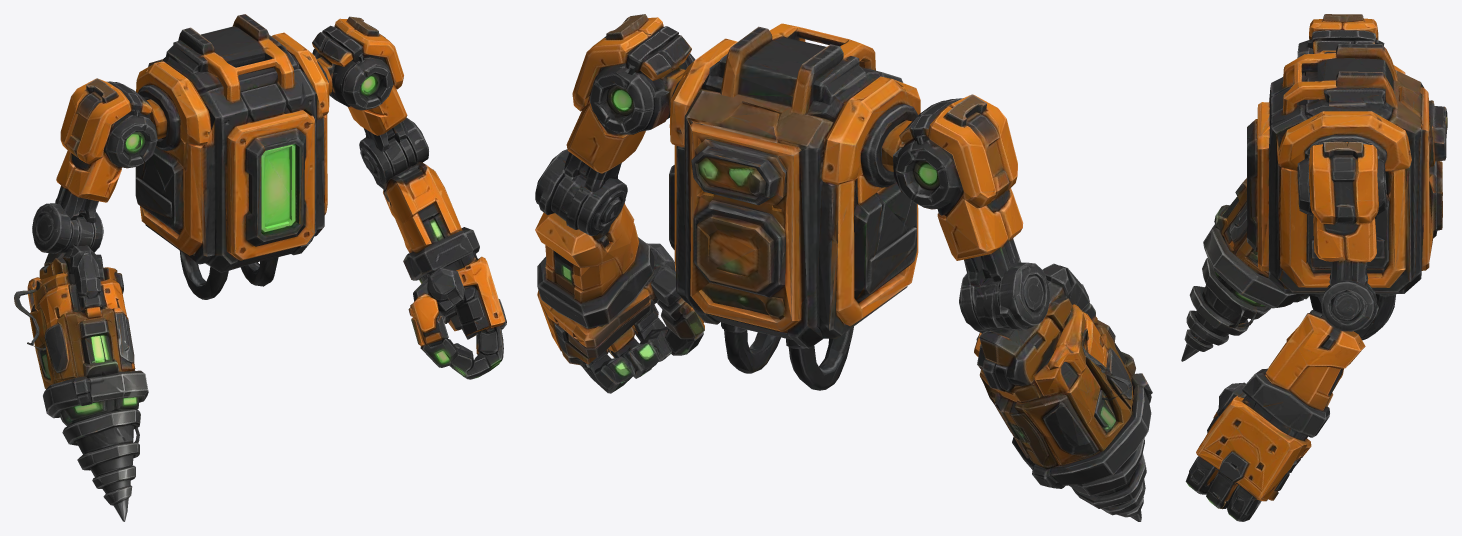
Rendered from budeul_gear.glb.
3 views of the same model, side by side, from view 1: azimuth 30°, elevation 25°; view 2: azimuth 150°, elevation 25°; view 3: azimuth 270°, elevation 25° (orthographic). The views are drawn at different scales.
Parts seen in each view (by area): view 1: Pack, ArmR, ArmL; view 2: Pack, ArmR, ArmL; view 3: Pack, ArmL, ArmR.
Part boxes in pixels (bbox=[...]): Pack: bbox=[135, 14, 331, 299]; ArmR: bbox=[14, 78, 159, 521]; ArmL: bbox=[312, 16, 506, 379]; Pack: bbox=[669, 23, 920, 390]; ArmR: bbox=[892, 94, 1152, 521]; ArmL: bbox=[535, 14, 704, 393]; Pack: bbox=[1247, 44, 1447, 340]; ArmL: bbox=[1185, 140, 1386, 521]; ArmR: bbox=[1181, 14, 1384, 361].
Size of the model in its own units: 1.9 by 1.52 by 0.9257.
1 material, 1 textured.
